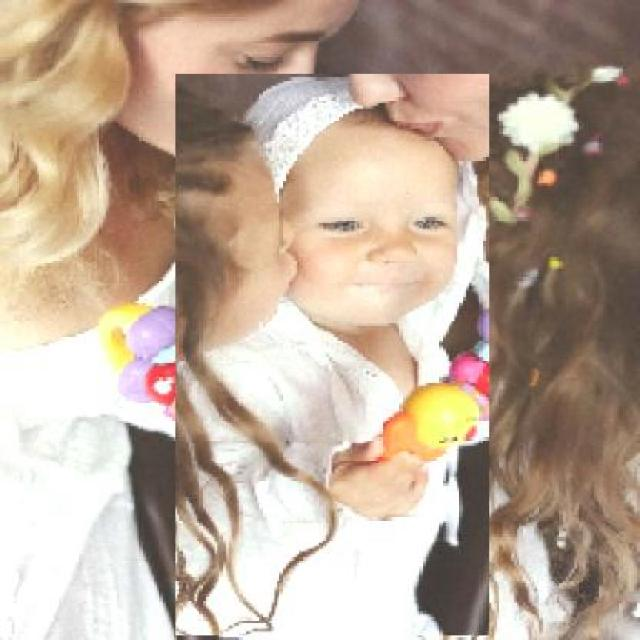child: (174, 74, 489, 637)
